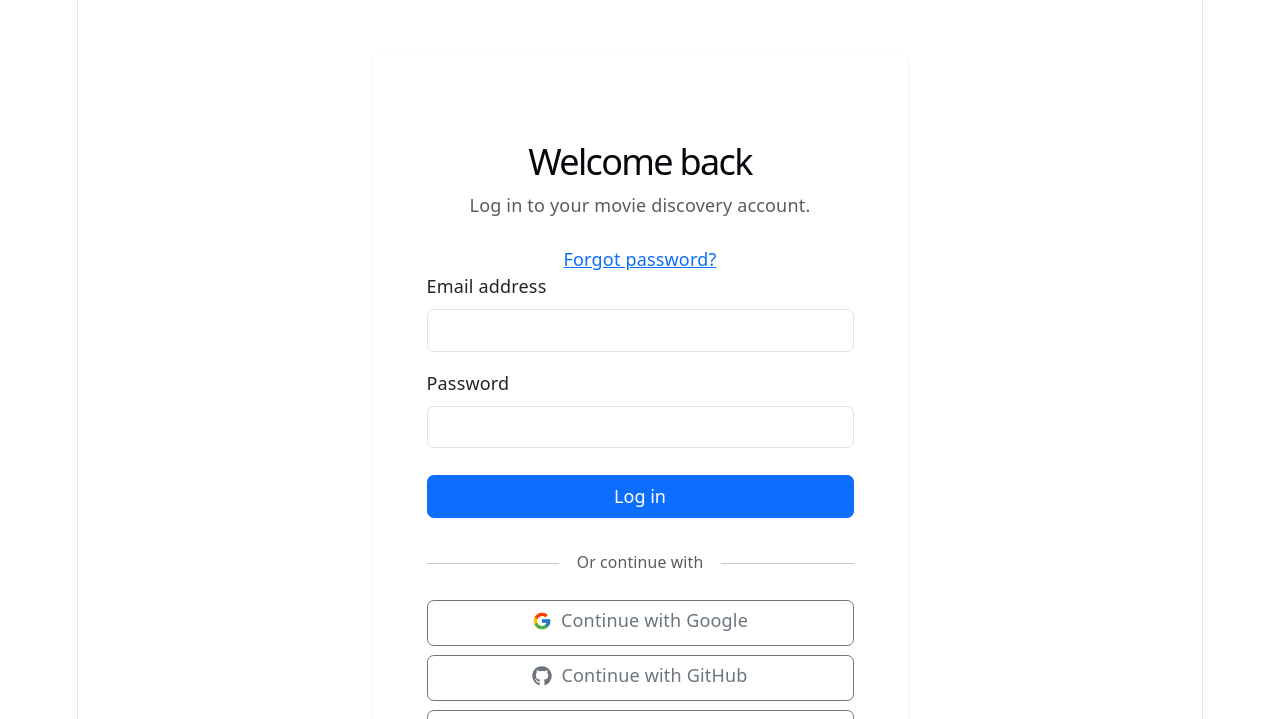
Scenario: Login flow (AB#29) › shows a safe error for incorrect credentials (HTTP 401)
Type "test@example.com" into the field labelled "Email address" at coordinates (640, 330), box [426, 309, 854, 352]
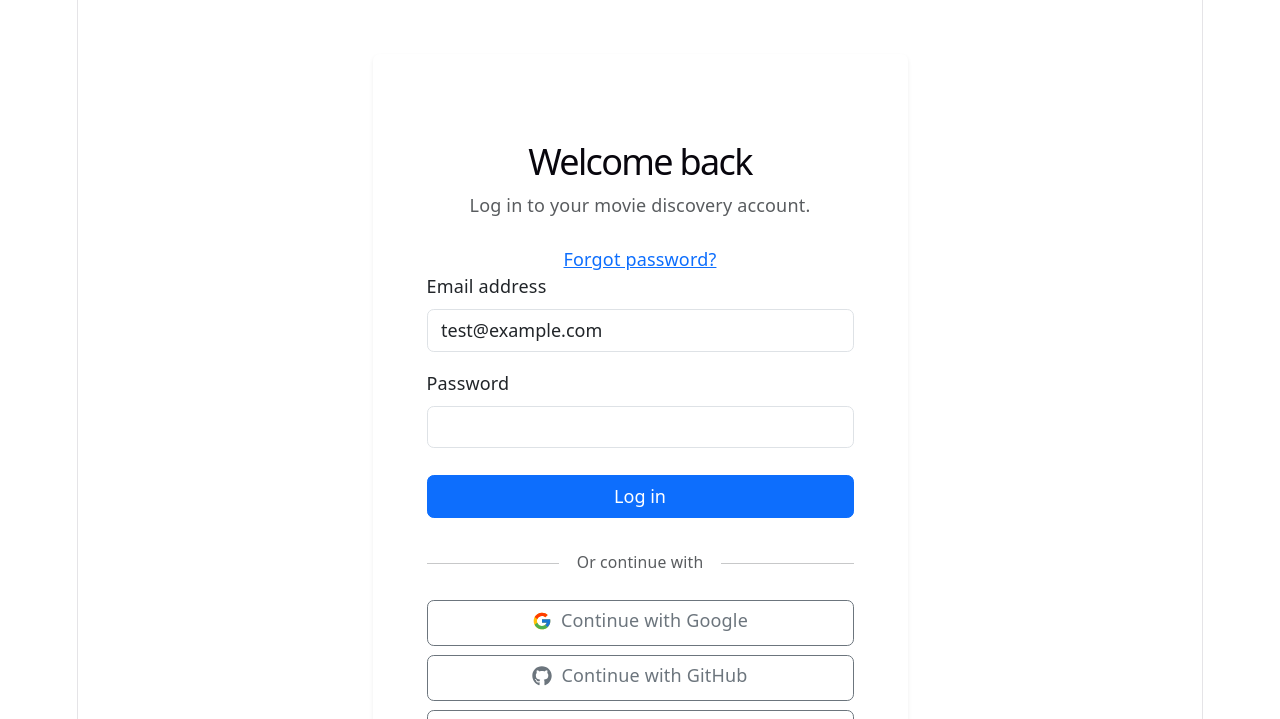
Type "TestPassword123!" into the password field labelled "Password" at coordinates (640, 427), box [426, 406, 854, 448]
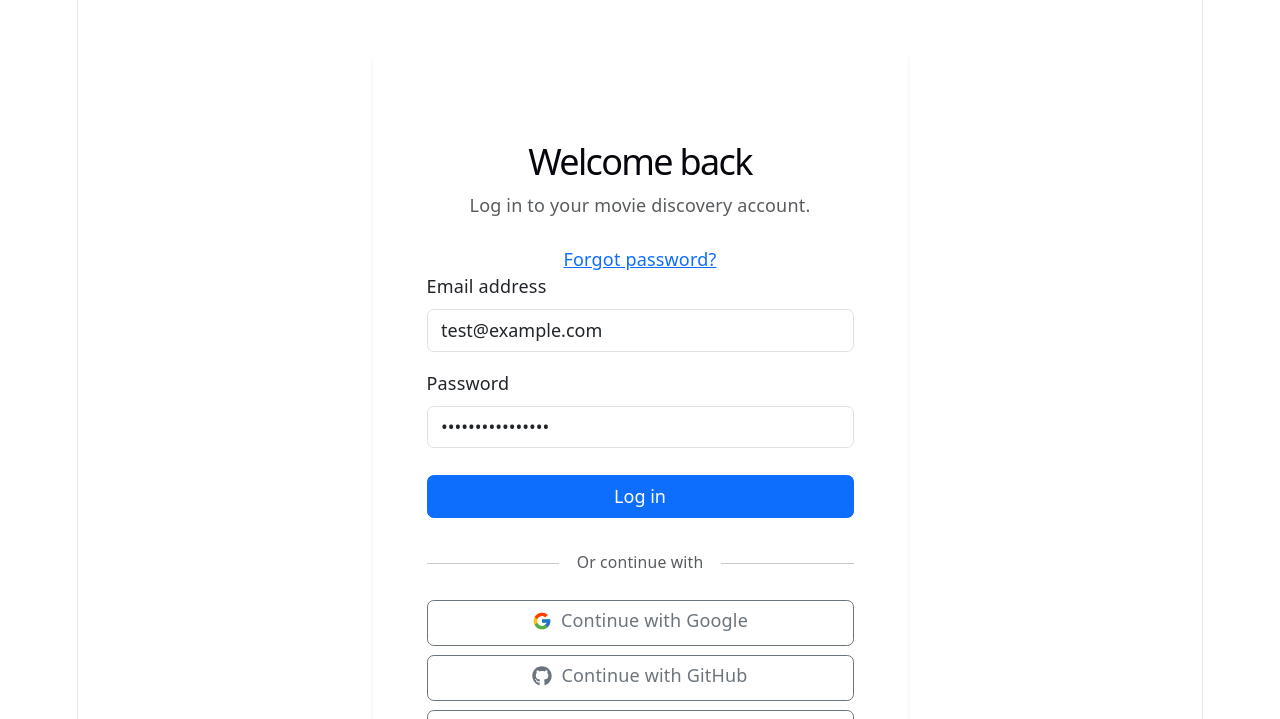
Click the button "Log in" at coordinates (640, 496), box [426, 475, 854, 518]
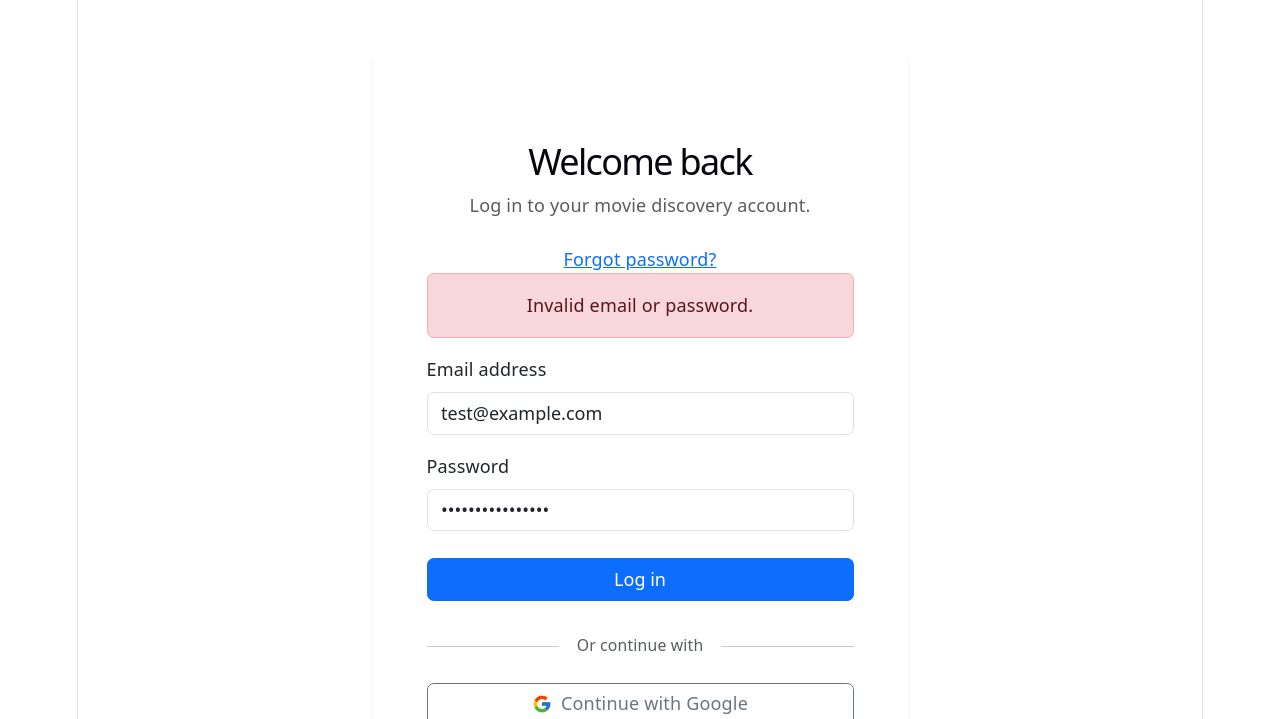
Now the message reads "Invalid email or password.", box [527, 293, 753, 317]
